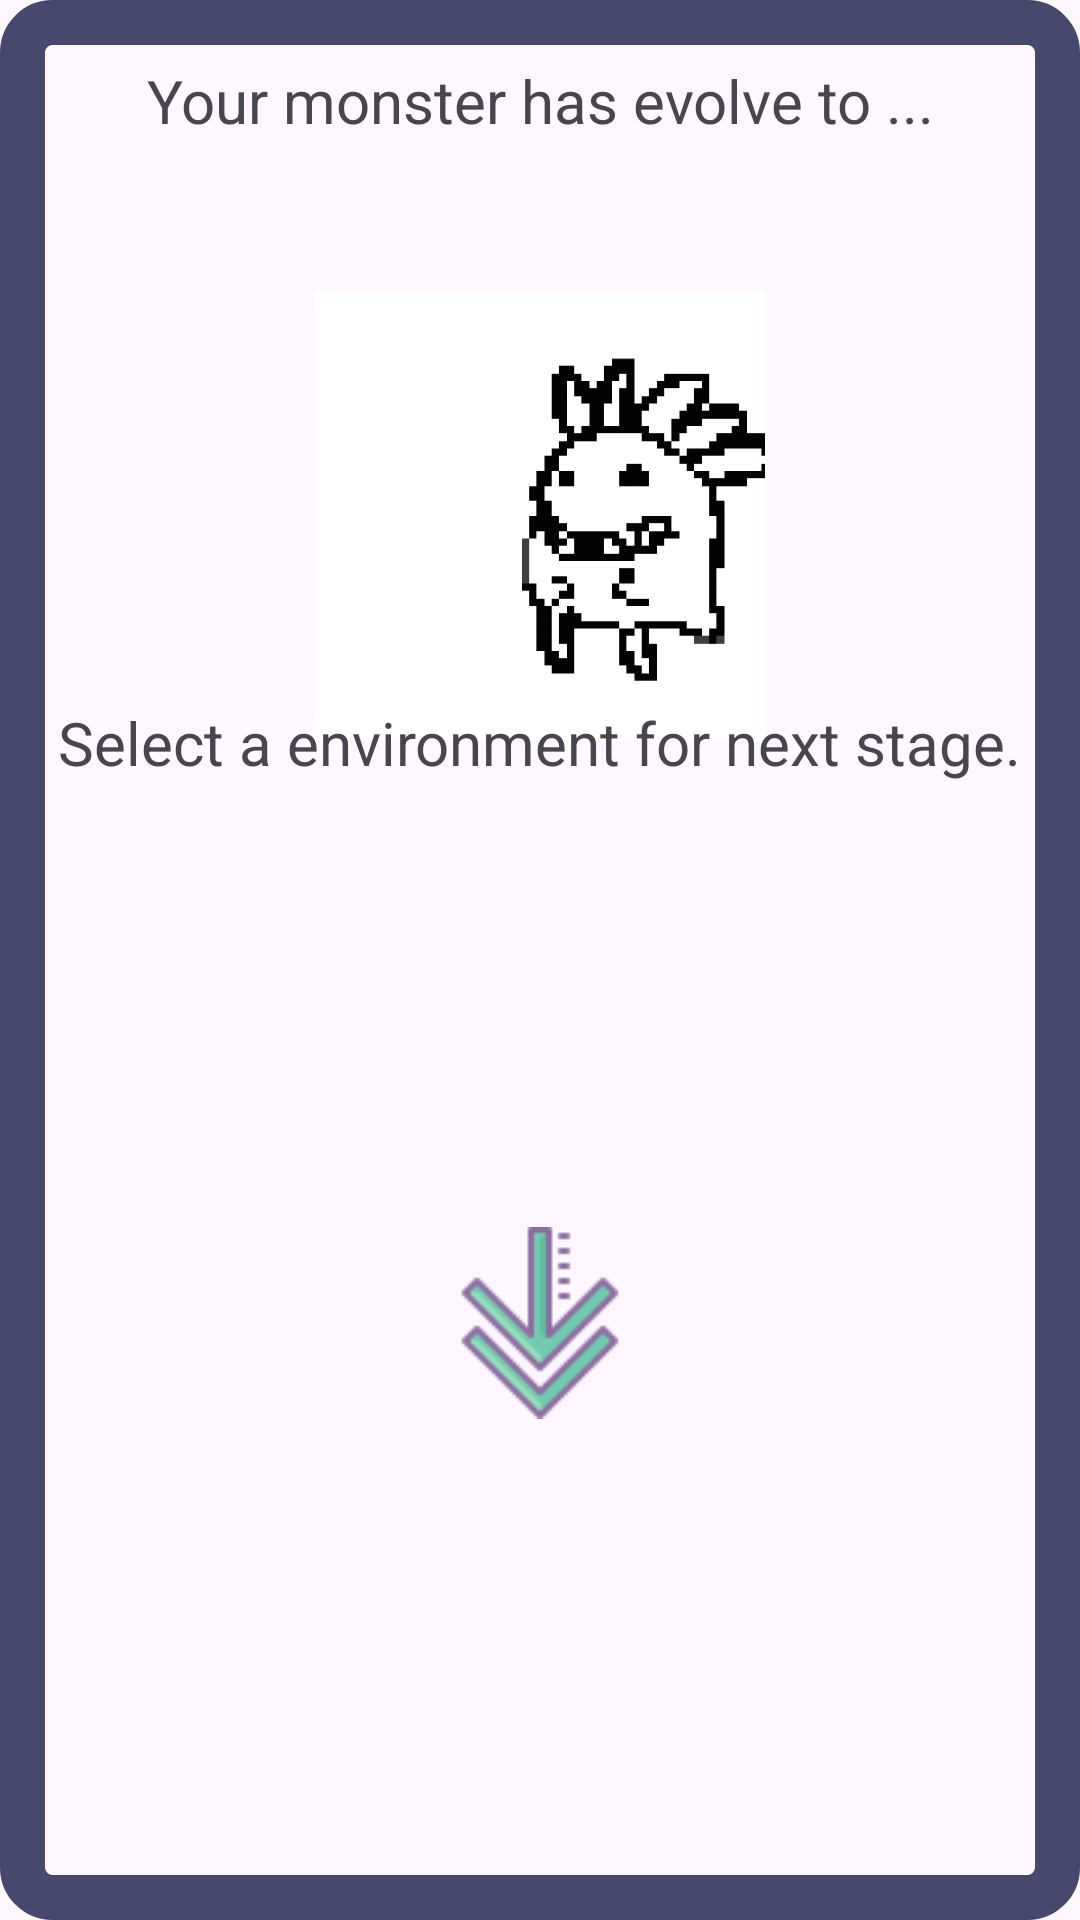

Icon bounding boxes for this 1080 × 1920 phone screenshot, format (x1, y1, x2, y2):
double down: (461, 1227, 619, 1419)
